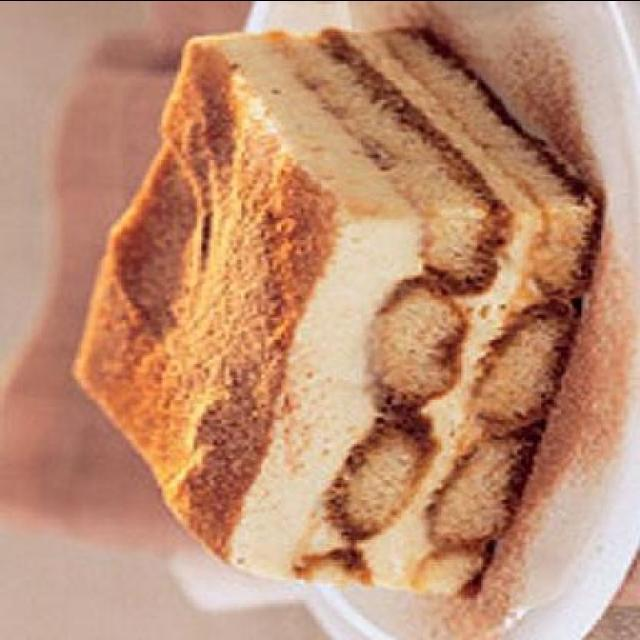Tiramisu: (62, 15, 596, 577)
